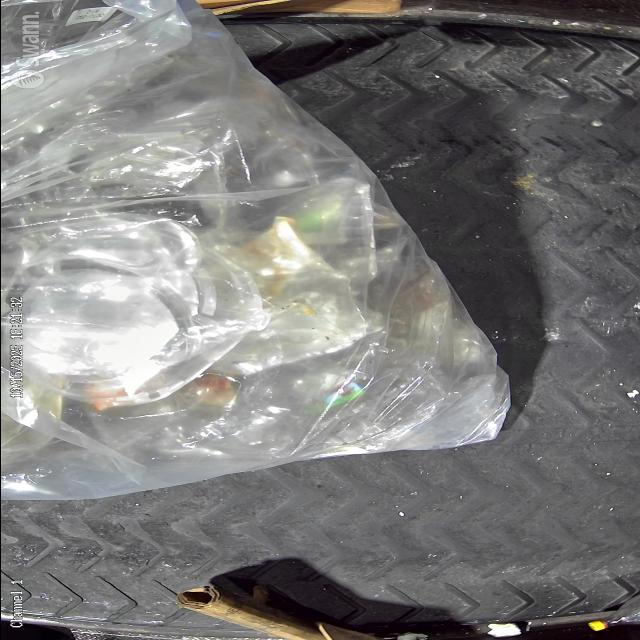plastic_bottle: (586, 593, 640, 633)
